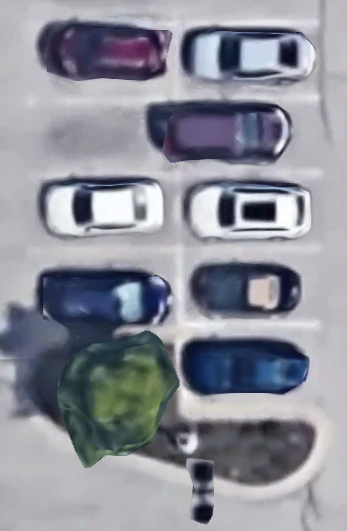Occupied: (28, 22, 177, 101), (29, 249, 180, 326), (176, 23, 318, 101), (29, 176, 180, 249), (180, 325, 317, 405), (179, 249, 318, 325), (175, 101, 319, 174), (178, 176, 317, 250)
Vacant: (29, 101, 175, 176)
